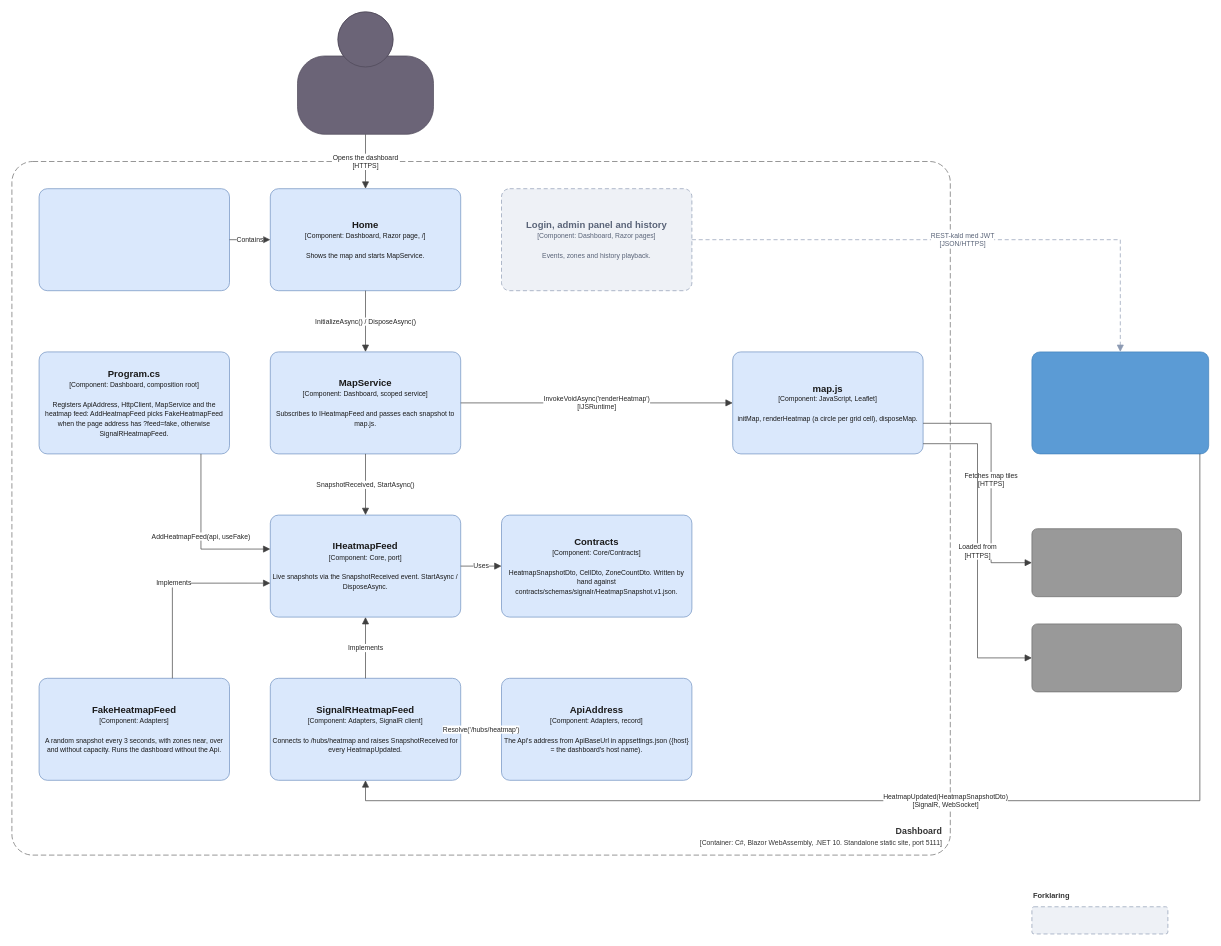
This 1221x946 diagram has some shape labels left out. The shapes that lost their labels are listed below. From the top down, each one's centre as x and y in pixels, then its label:
At pixel 365 72: "Arrangør [Person]".
At pixel 134 239: "MainLayout + NavMenu [Component: Dashboard, Razor] Page layout and navigation.".
At pixel 1120 402: "Processing-server [Container: C#, ASP.NET Core, SignalR]".
At pixel 1106 562: "OpenStreetMap [Software System, ekstern] Kortfliser".
At pixel 1106 657: "unpkg CDN [Software System, ekstern] Leaflet 1.9.4 (JS + CSS)".
At pixel 1099 920: "Stiplet grå: planlagt (ikke implementeret endnu)".
